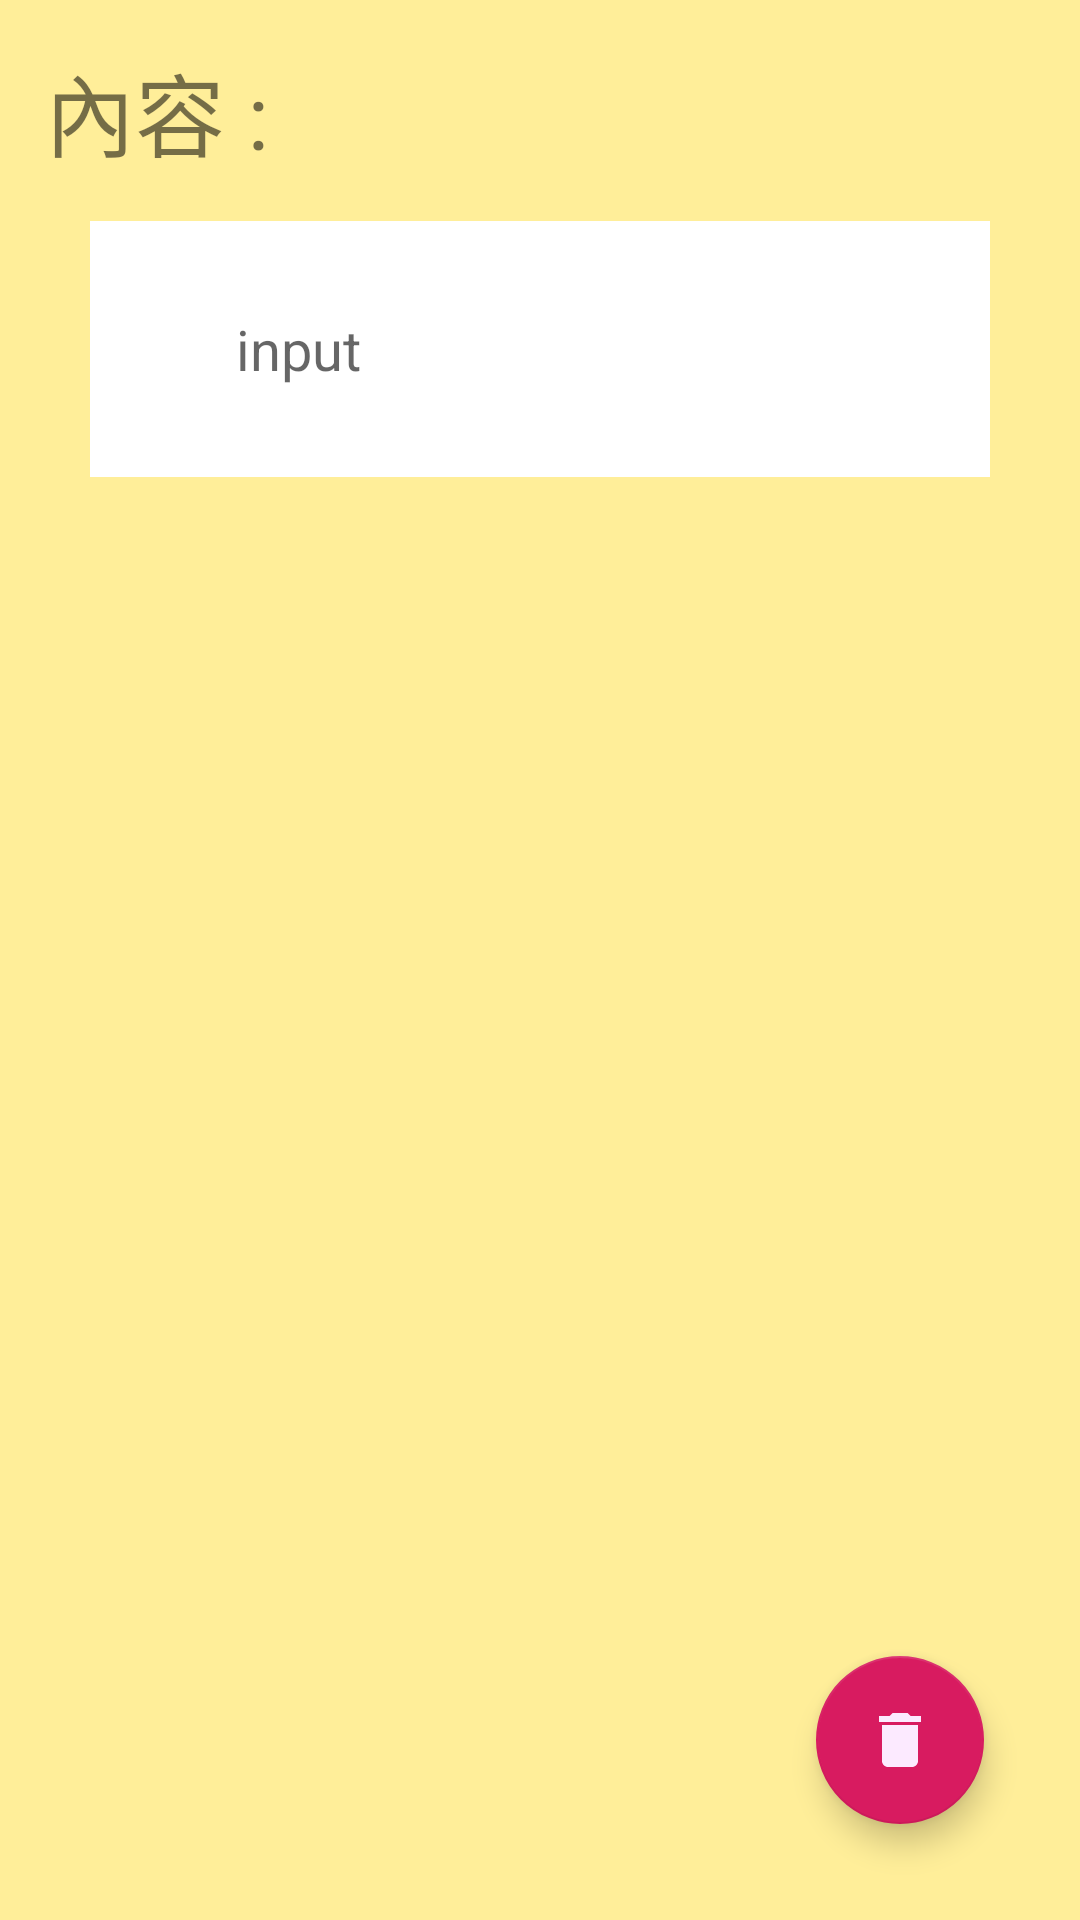

Where to tap for icons on this 1080px x 1920px app screen, as [x,y]:
delete: [900,1740]
